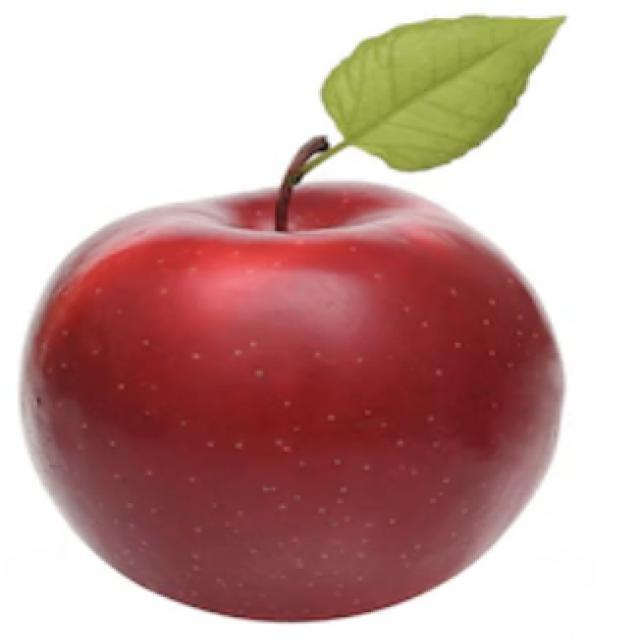Fresh Apple: (54, 195, 538, 640)
